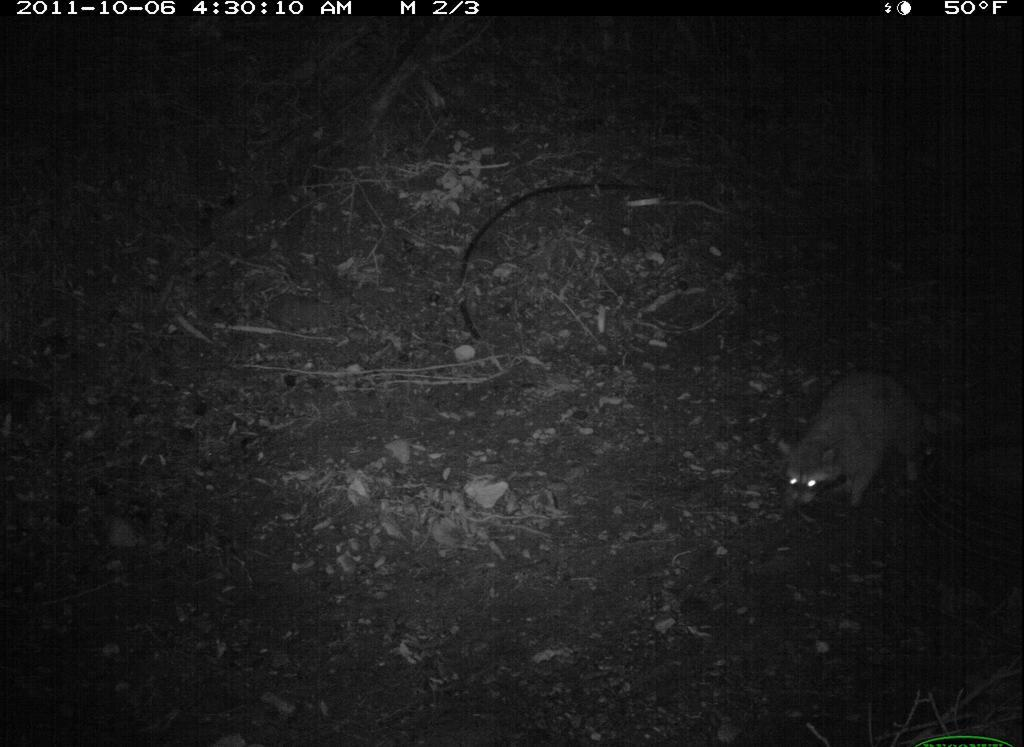raccoon: (774, 359, 946, 527)
